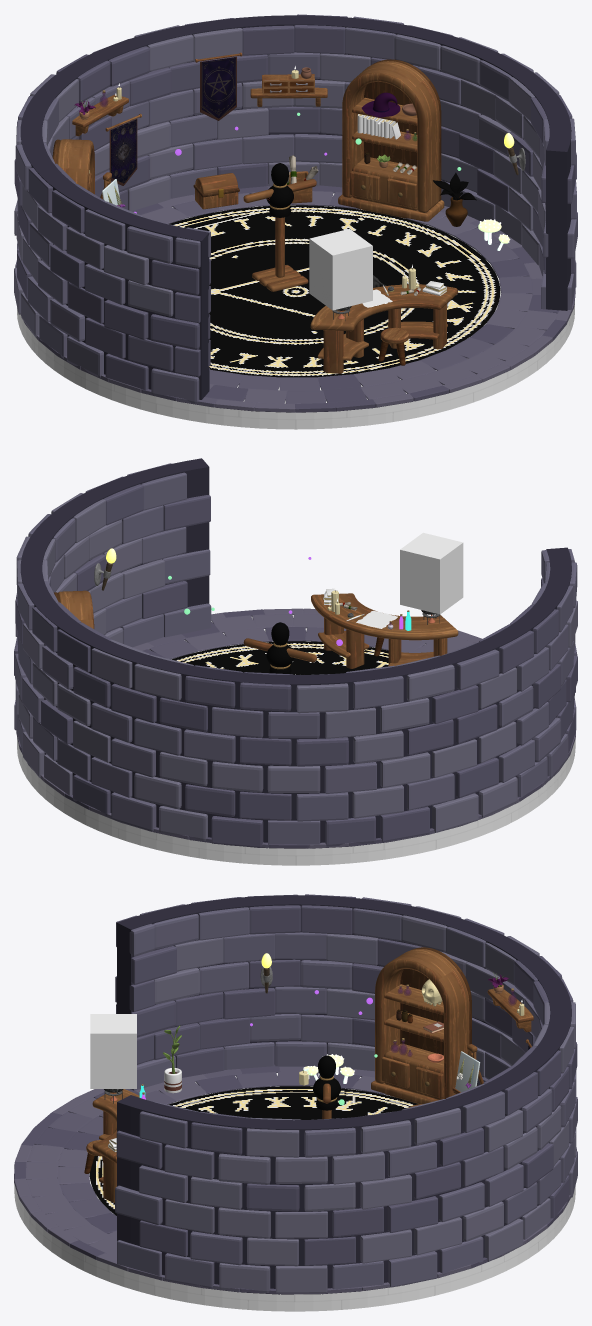
File: Witch_Hat_Atelier_fixed.glb
3 views of the same model, one above another, from view 1: azimuth 30°, elevation 25°; view 2: azimuth 150°, elevation 25°; view 3: azimuth 270°, elevation 25° (orthographic).
Parts seen in each view (by area): view 1: MagicCircleDecal, env_wall_mortarCore, furniture_shelf_arch, env_floor_mortarSlab, Desk, fx_cauldron_smoke, Training_Dummy.001, Tapestry.001, Tapestry, inst_brick_wall_r5_7, inst_brick_wall_r5_8, inst_brick_wall_r5_6 (+107 smaller); view 2: env_wall_mortarCore, env_floor_mortarSlab, Desk, fx_cauldron_smoke, MagicCircleDecal, inst_brick_wall_r5_14, inst_brick_wall_r5_12, inst_brick_wall_r5_13, inst_brick_wall_r2_14, inst_brick_wall_r0_12, inst_brick_wall_r3_13, inst_brick_wall_r1_13 (+93 smaller); view 3: env_wall_mortarCore, furniture_shelf_arch, env_floor_mortarSlab, MagicCircleDecal, fx_cauldron_smoke, Desk, inst_brick_wall_r5_2, inst_brick_wall_r5_17, inst_brick_wall_r5_19, inst_brick_wall_r5_1, inst_brick_wall_r1_1, inst_brick_wall_r2_19 (+105 smaller).
Part boxes in pixels (left/top/right/bottom): MagicCircleDecal: left=169, top=205, right=500, bottom=377; env_wall_mortarCore: left=20, top=15, right=571, bottom=399; furniture_shelf_arch: left=52, top=59, right=444, bottom=221; env_floor_mortarSlab: left=17, top=193, right=574, bottom=429; Desk: left=310, top=284, right=457, bottom=373; fx_cauldron_smoke: left=309, top=229, right=372, bottom=310; Training_Dummy.001: left=243, top=163, right=316, bottom=291; Tapestry.001: left=195, top=52, right=242, bottom=120; Tapestry: left=105, top=113, right=141, bottom=185; inst_brick_wall_r5_7: left=294, top=14, right=347, bottom=54; inst_brick_wall_r5_8: left=242, top=25, right=294, bottom=55; inst_brick_wall_r5_6: left=345, top=16, right=403, bottom=59; env_wall_mortarCore: left=20, top=458, right=571, bottom=842; env_floor_mortarSlab: left=17, top=615, right=575, bottom=865; Desk: left=311, top=593, right=458, bottom=668; fx_cauldron_smoke: left=400, top=532, right=463, bottom=614; MagicCircleDecal: left=171, top=641, right=388, bottom=674; inst_brick_wall_r5_14: left=346, top=665, right=403, bottom=709; inst_brick_wall_r5_12: left=240, top=672, right=293, bottom=711; inst_brick_wall_r5_13: left=296, top=674, right=348, bottom=713; inst_brick_wall_r2_14: left=324, top=762, right=376, bottom=793; inst_brick_wall_r0_12: left=211, top=816, right=263, bottom=847; inst_brick_wall_r3_13: left=296, top=737, right=348, bottom=766; inst_brick_wall_r1_13: left=296, top=792, right=348, bottom=821; env_wall_mortarCore: left=117, top=895, right=571, bottom=1288; furniture_shelf_arch: left=371, top=947, right=471, bottom=1107; env_floor_mortarSlab: left=14, top=1073, right=575, bottom=1311; MagicCircleDecal: left=89, top=1086, right=418, bottom=1215; fx_cauldron_smoke: left=90, top=1014, right=136, bottom=1088; Desk: left=92, top=1089, right=139, bottom=1202; inst_brick_wall_r5_2: left=246, top=1117, right=300, bottom=1157; inst_brick_wall_r5_17: left=301, top=894, right=355, bottom=934; inst_brick_wall_r5_19: left=191, top=897, right=249, bottom=940; inst_brick_wall_r5_1: left=191, top=1111, right=248, bottom=1154; inst_brick_wall_r1_1: left=190, top=1231, right=242, bottom=1265; inst_brick_wall_r2_19: left=223, top=988, right=275, bottom=1019.
Bounding box in the file's own units: 9.09 × 3.2 × 9.06.
84 materials, 39 textured.
